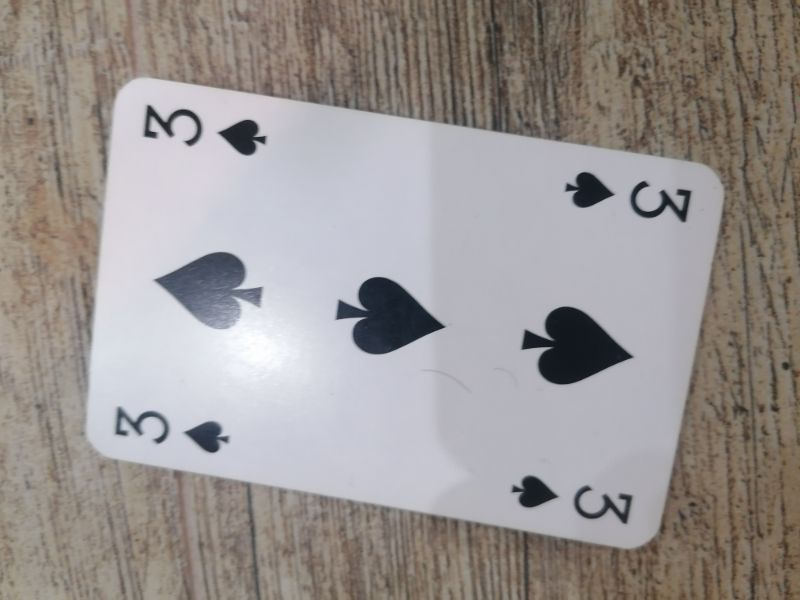3s: (138, 97, 274, 159), (510, 467, 638, 531), (564, 164, 695, 226), (109, 402, 235, 457)
